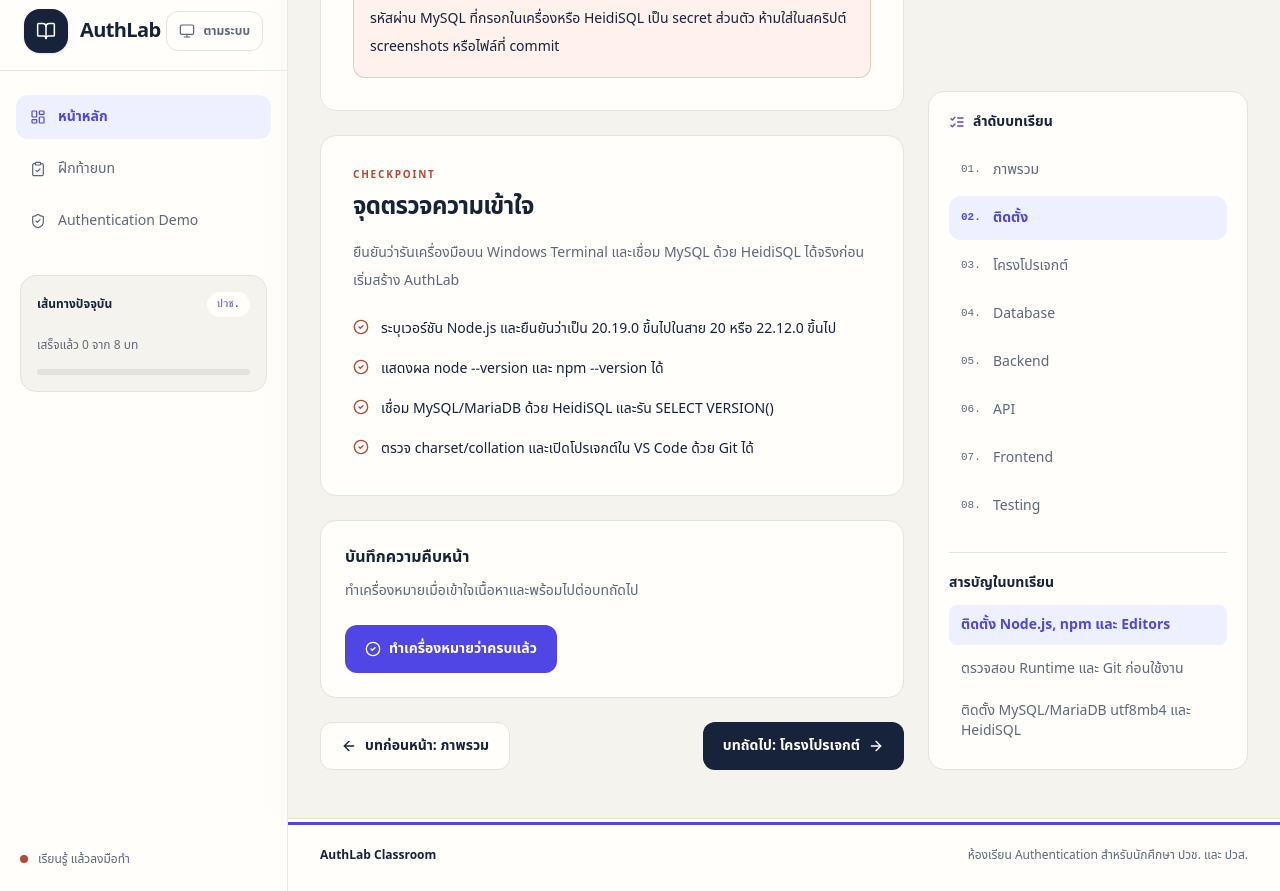
Test case: LessonPage › links to the previous and next lessons inside the active track
The width and height of the screenshot is (1280, 891).
(page scrolled)
Click the link "บทถัดไป: โครงโปรเจกต์": (803, 746) [703,722,904,770]
(page scrolled)
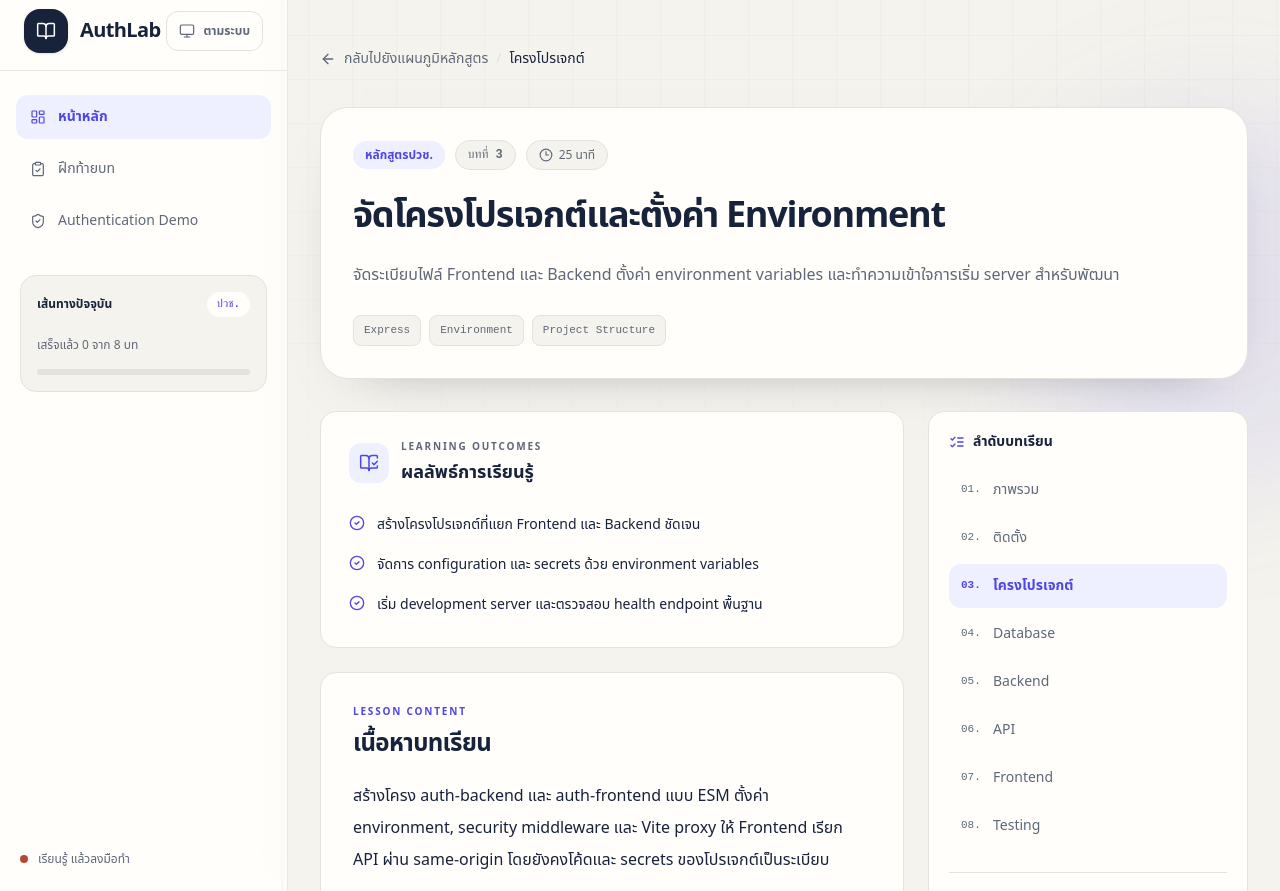
Now the heading "จัดโครงโปรเจกต์และตั้งค่า Environment" is shown, box [353,189,945,243]
